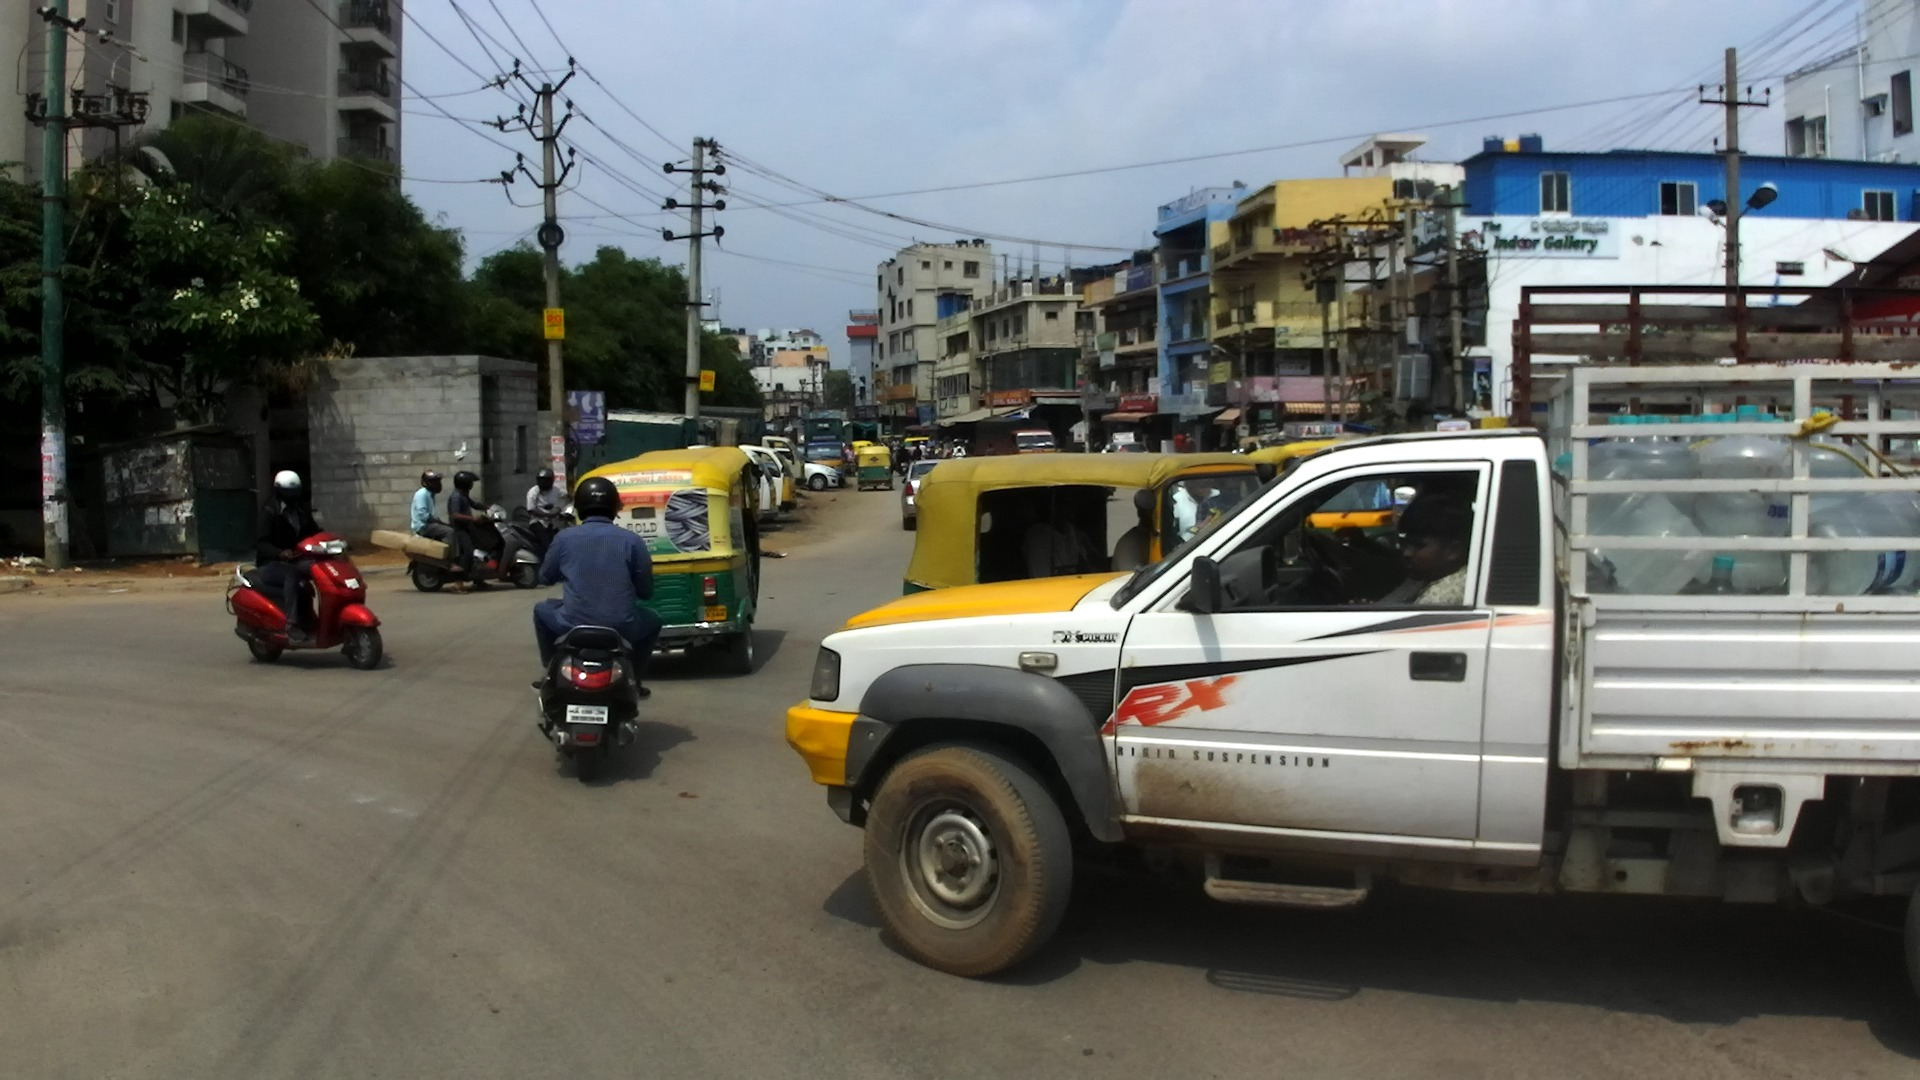autorickshaw: (904, 452, 1273, 609), (572, 445, 763, 673), (855, 447, 894, 491), (1237, 435, 1275, 458), (899, 436, 933, 458), (852, 439, 874, 469)
car: (1253, 439, 1370, 487), (900, 459, 953, 533), (791, 449, 840, 490), (1103, 440, 1149, 455)
motorcycle: (530, 566, 640, 785), (225, 531, 384, 669), (402, 498, 540, 593), (512, 502, 592, 586), (892, 454, 909, 477), (945, 447, 971, 458), (890, 446, 901, 455)
person: (846, 444, 856, 477), (981, 440, 997, 458), (1187, 432, 1197, 456), (1174, 429, 1183, 453), (926, 433, 936, 451), (985, 441, 996, 457), (942, 435, 954, 447), (914, 444, 921, 462)
rider: (531, 475, 664, 697), (254, 469, 317, 646), (409, 470, 454, 588), (450, 471, 491, 590), (525, 468, 572, 564), (894, 443, 909, 468), (951, 437, 964, 459), (960, 439, 970, 458), (919, 442, 928, 460), (929, 443, 937, 460), (937, 443, 947, 460), (1101, 445, 1114, 456), (889, 438, 901, 449), (1233, 446, 1244, 455)
truck: (783, 285, 1920, 988), (606, 414, 778, 527), (695, 411, 798, 507), (691, 407, 805, 483), (970, 416, 1062, 462), (803, 413, 847, 487), (849, 418, 883, 444)
vehicle fallback: (1247, 422, 1347, 455)
